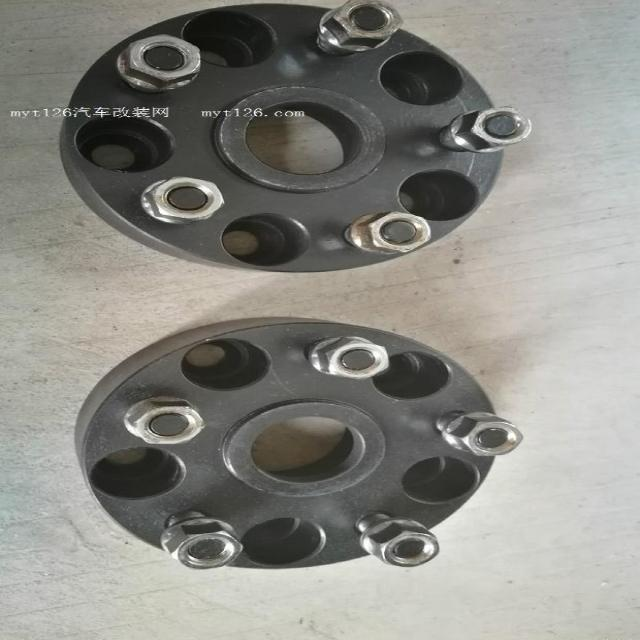bolt nut: (114, 31, 204, 86), (164, 520, 244, 571), (319, 1, 407, 47), (142, 176, 225, 222), (356, 206, 434, 254), (127, 399, 205, 445), (455, 105, 535, 148), (367, 521, 440, 568), (315, 336, 390, 380), (452, 412, 523, 457)
